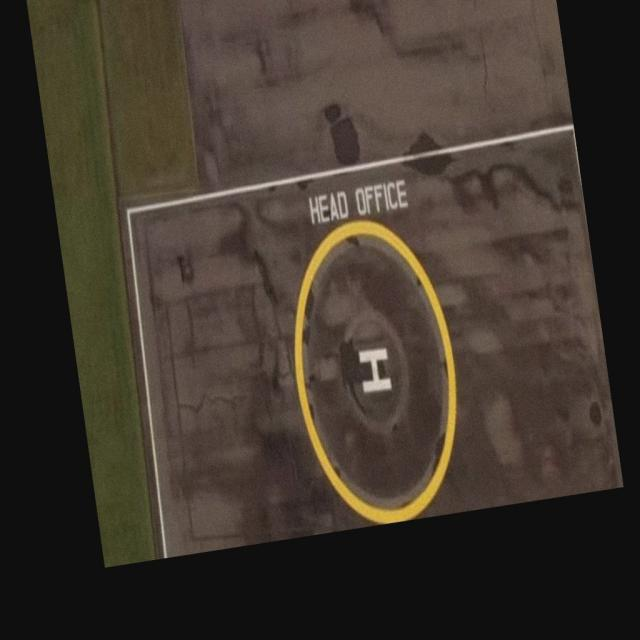helipad: (287, 216, 461, 523)
